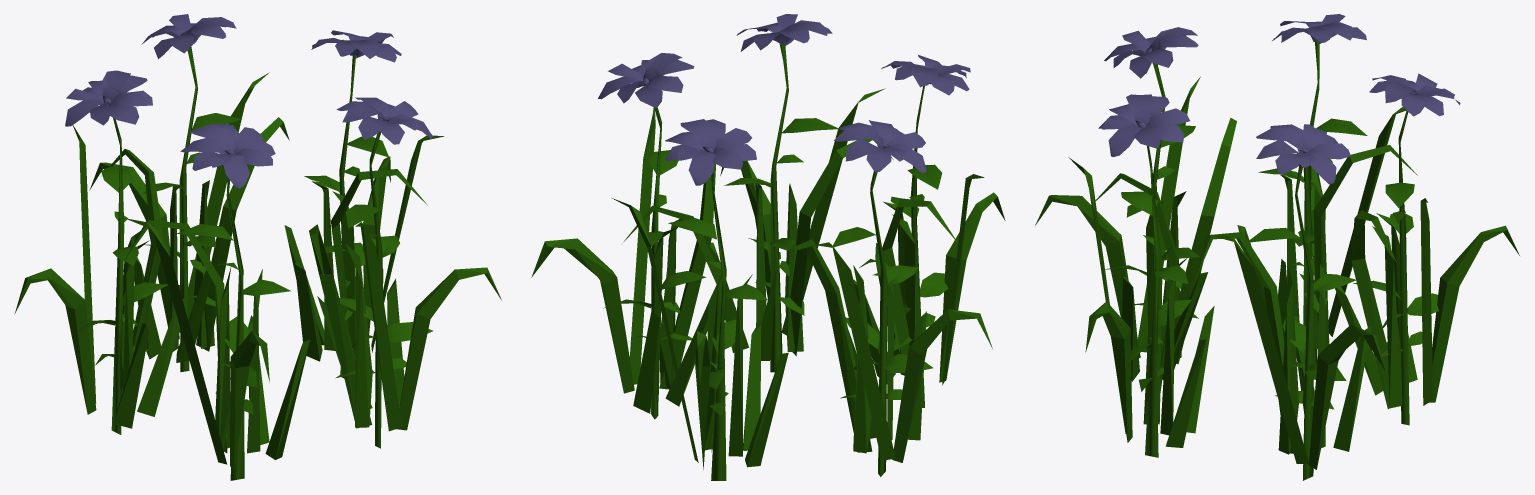
Rendered from flowersblue.fbx.
The picture shows the model from 3 angles, left to right: view 1: azimuth 30°, elevation 25°; view 2: azimuth 150°, elevation 25°; view 3: azimuth 270°, elevation 25°; orthographic projection.
Visible parts, largest first — view 1: FlowersBlue; view 2: FlowersBlue; view 3: FlowersBlue.
Part boxes in pixels (x1,y1,x2,y2): FlowersBlue: (14, 14, 501, 480); FlowersBlue: (531, 14, 1005, 480); FlowersBlue: (1035, 14, 1519, 480).
Bounding box in the file's own units: 34.15 × 26.99 × 34.27.
